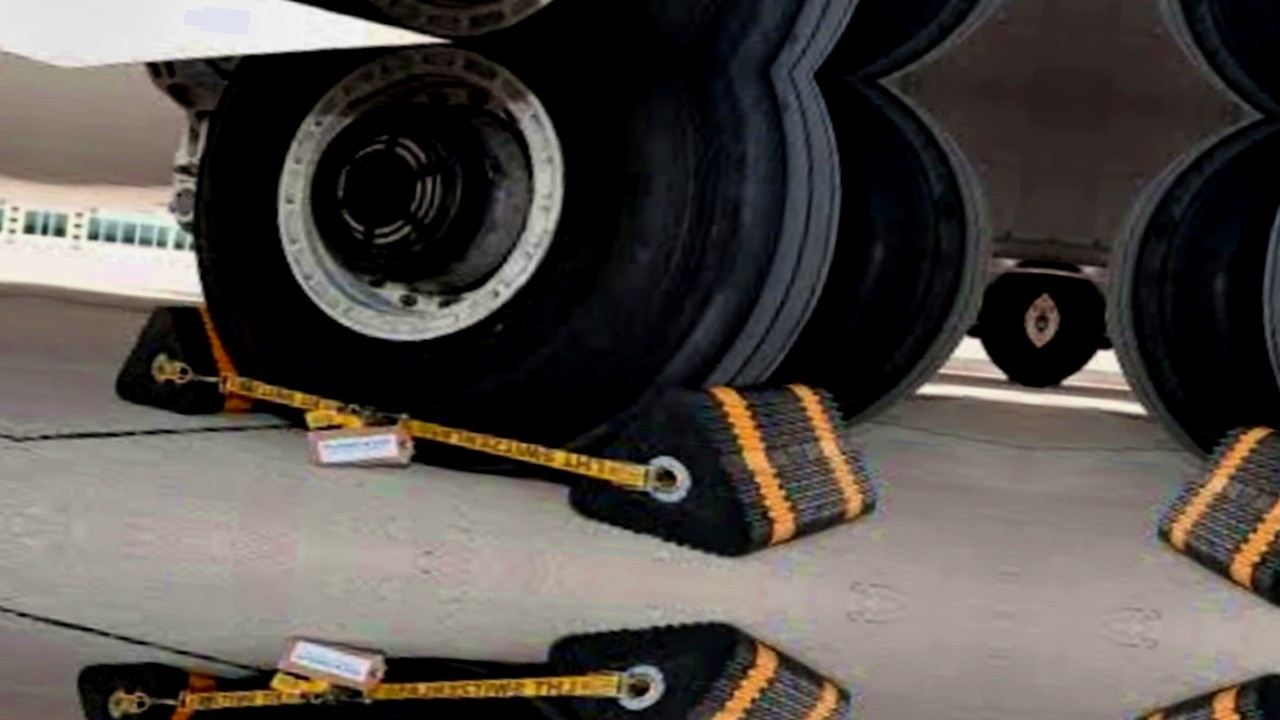chock: (556, 362, 895, 570), (524, 608, 863, 720), (1146, 416, 1280, 624), (110, 298, 244, 416), (63, 659, 198, 720)
wheel: (139, 19, 879, 482), (743, 72, 1006, 435), (1092, 104, 1280, 467), (1034, 274, 1112, 390), (971, 269, 1049, 384)
